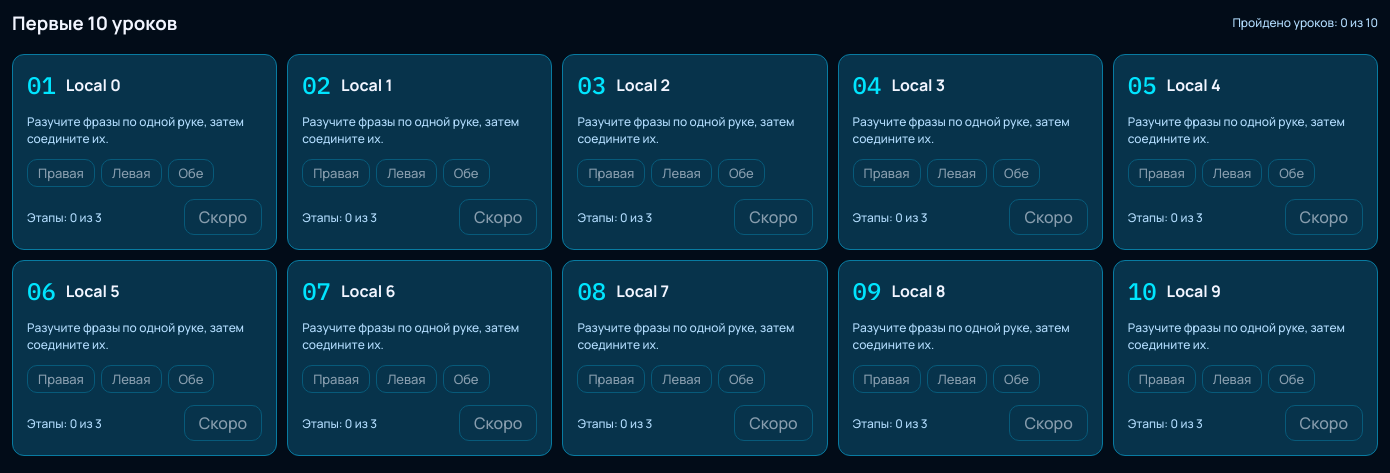
course cards and exercise controls › shows ten unavailable cards, progress and localized controls
Click the button "Скоро" below "01" at (223, 217), box [184,199,262,235]
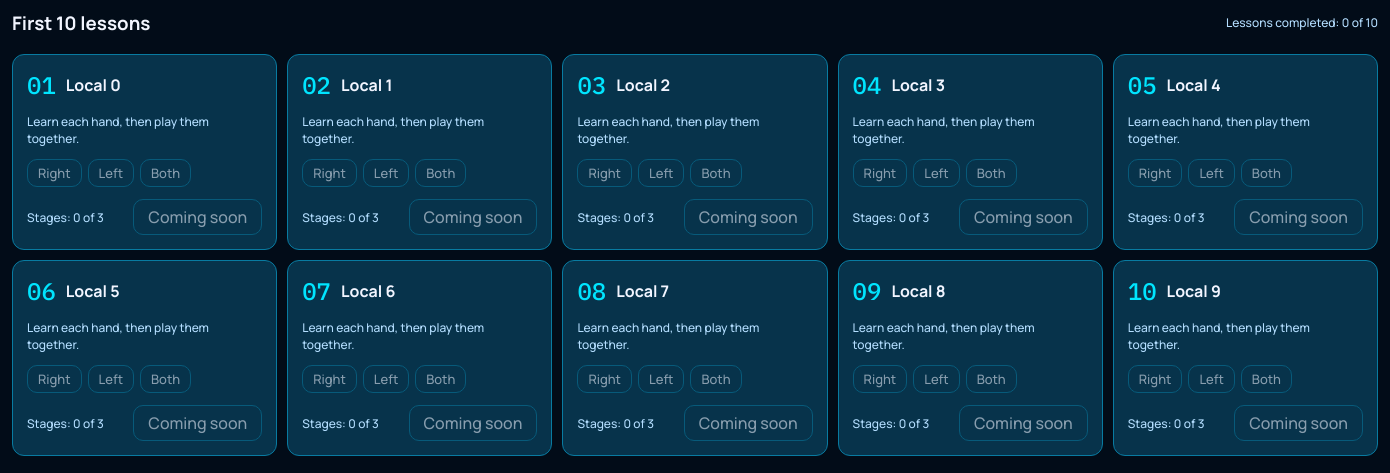
Expected: the text "Local 0" is shown, [66,74,121,96]
Expected: the text "Coming soon" is shown, [133,199,262,235]
Expected: the text "Learn each hand, then play them together." is shown, [27,113,209,147]
